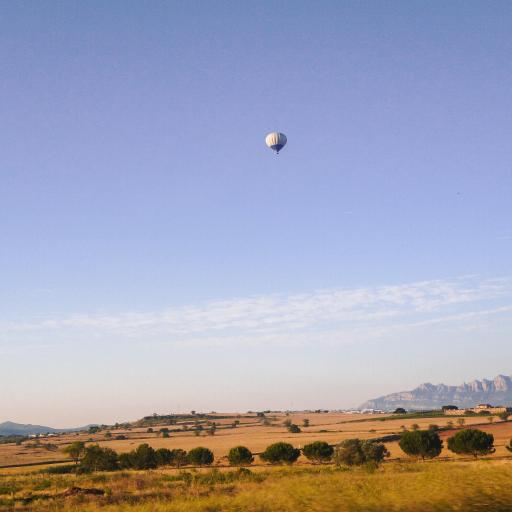hot air ballon: (260, 126, 292, 158)
